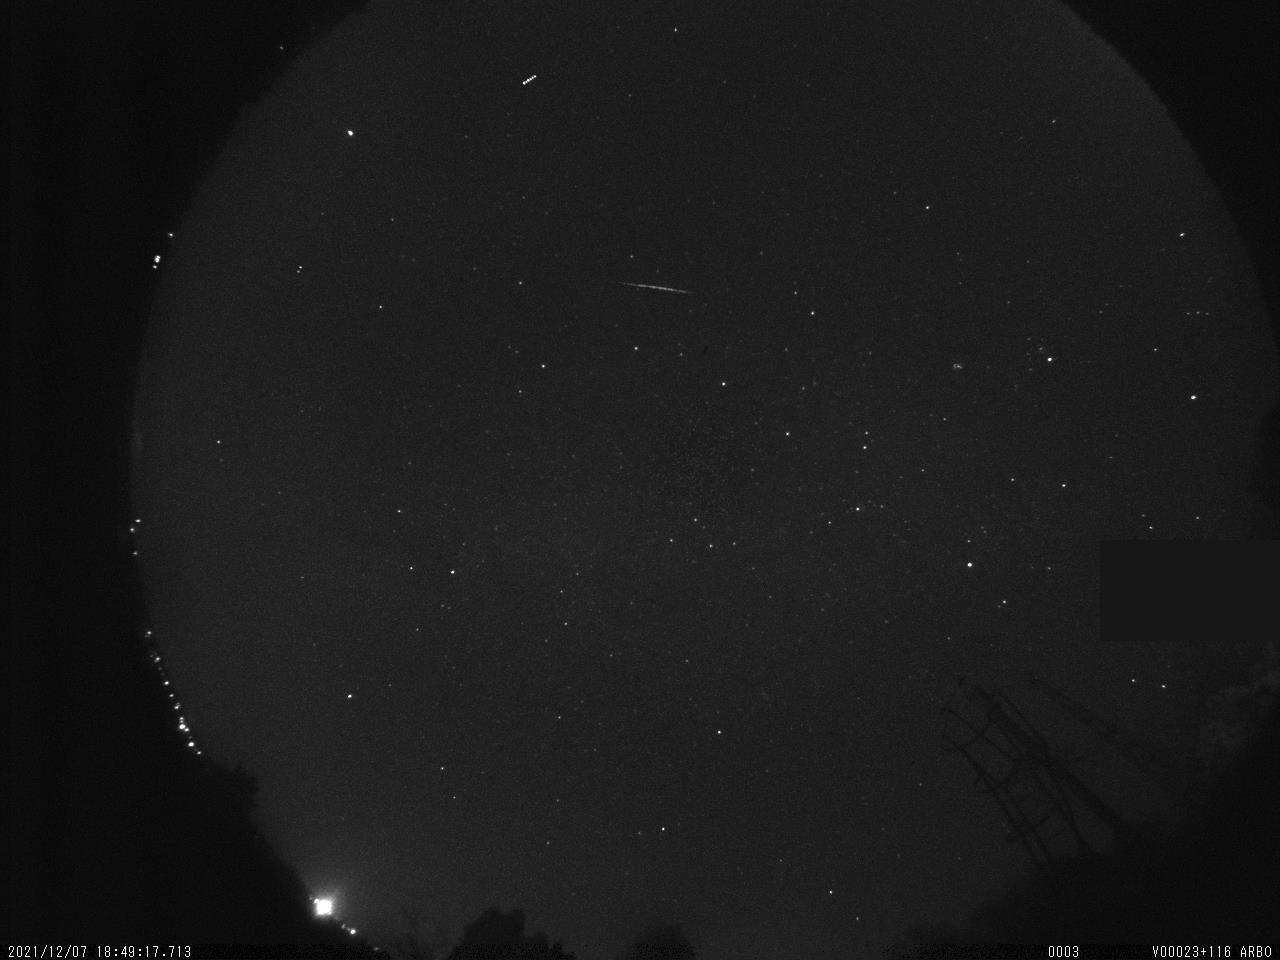meteor: (607, 272, 714, 305)
satelite: (515, 71, 545, 92)
